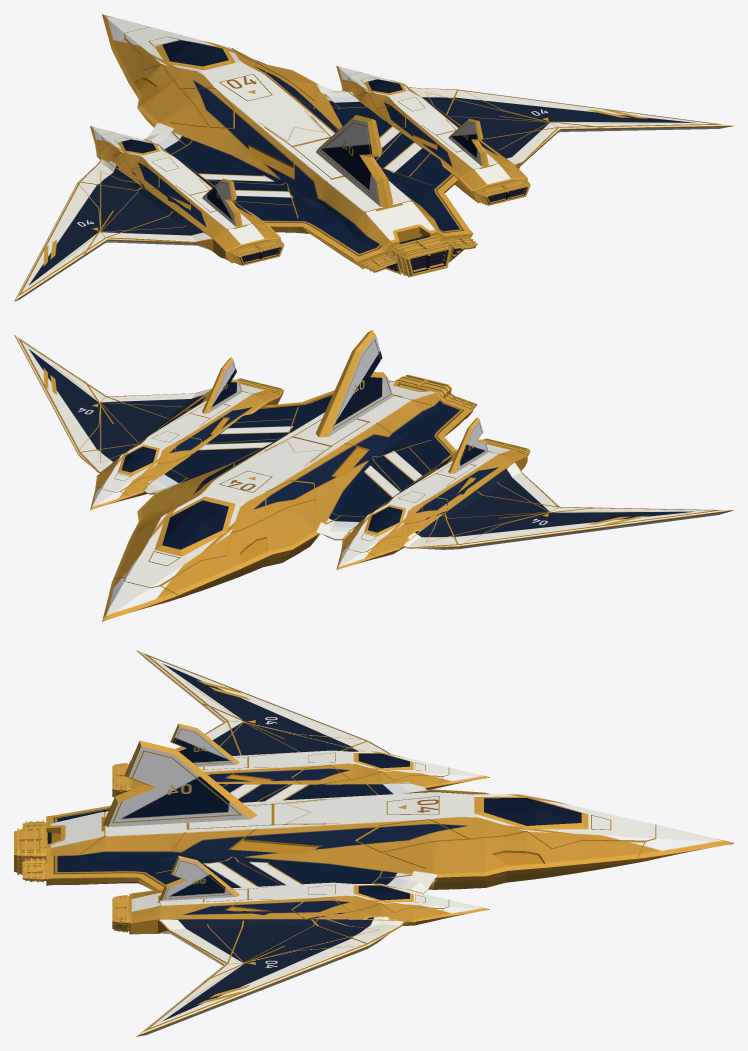
Rendered from royal-white.glb.
3 views of the same model, one above another, from view 1: azimuth 30°, elevation 25°; view 2: azimuth 150°, elevation 25°; view 3: azimuth 270°, elevation 25° (orthographic). The views are drawn at different scales.
Visible parts, largest first — view 1: CENTER_AF04_BODY_CENTER, SIDE_L_AF04_BODY_CENTER, SIDE_R_AF04_BODY_CENTER, STYLE_B_NOTCHED_FIN_center, CENTER_AF04_CANOPY_0, STYLE_B_NOTCHED_FIN_left, STYLE_B_NOTCHED_FIN_right, CENTER_AF04_CENTER_CANOPY_FRAME_USER; view 2: CENTER_AF04_BODY_CENTER, SIDE_L_AF04_BODY_CENTER, SIDE_R_AF04_BODY_CENTER, STYLE_B_NOTCHED_FIN_center, CENTER_AF04_CANOPY_0, STYLE_B_NOTCHED_FIN_right, STYLE_B_NOTCHED_FIN_left, CENTER_AF04_CENTER_CANOPY_FRAME_USER, SIDE_L_AF04_CANOPY_0, SIDE_R_AF04_CANOPY_0; view 3: CENTER_AF04_BODY_CENTER, SIDE_R_AF04_BODY_CENTER, SIDE_L_AF04_BODY_CENTER, STYLE_B_NOTCHED_FIN_center, STYLE_B_NOTCHED_FIN_right, CENTER_AF04_CANOPY_0, STYLE_B_NOTCHED_FIN_left, CENTER_AF04_CENTER_CANOPY_FRAME_USER.
Boxes of the visible parts, bbox=[...] form: CENTER_AF04_BODY_CENTER: bbox=[102, 14, 473, 269]; SIDE_L_AF04_BODY_CENTER: bbox=[14, 126, 280, 301]; SIDE_R_AF04_BODY_CENTER: bbox=[336, 66, 733, 203]; STYLE_B_NOTCHED_FIN_center: bbox=[316, 115, 393, 208]; CENTER_AF04_CANOPY_0: bbox=[162, 40, 228, 66]; STYLE_B_NOTCHED_FIN_left: bbox=[202, 178, 242, 227]; STYLE_B_NOTCHED_FIN_right: bbox=[448, 118, 488, 167]; CENTER_AF04_CENTER_CANOPY_FRAME_USER: bbox=[155, 40, 235, 70]; CENTER_AF04_BODY_CENTER: bbox=[102, 381, 472, 621]; SIDE_L_AF04_BODY_CENTER: bbox=[336, 444, 733, 570]; SIDE_R_AF04_BODY_CENTER: bbox=[14, 335, 280, 510]; STYLE_B_NOTCHED_FIN_center: bbox=[315, 330, 393, 437]; CENTER_AF04_CANOPY_0: bbox=[162, 500, 228, 549]; STYLE_B_NOTCHED_FIN_right: bbox=[202, 357, 242, 413]; STYLE_B_NOTCHED_FIN_left: bbox=[448, 417, 488, 473]; CENTER_AF04_CENTER_CANOPY_FRAME_USER: bbox=[154, 496, 235, 556]; SIDE_L_AF04_CANOPY_0: bbox=[368, 507, 402, 532]; SIDE_R_AF04_CANOPY_0: bbox=[121, 446, 156, 472]; CENTER_AF04_BODY_CENTER: bbox=[46, 782, 733, 893]; SIDE_R_AF04_BODY_CENTER: bbox=[129, 882, 489, 1036]; SIDE_L_AF04_BODY_CENTER: bbox=[129, 650, 489, 790]; STYLE_B_NOTCHED_FIN_center: bbox=[102, 740, 257, 827]; STYLE_B_NOTCHED_FIN_right: bbox=[159, 855, 239, 900]; CENTER_AF04_CANOPY_0: bbox=[484, 798, 581, 825]; STYLE_B_NOTCHED_FIN_left: bbox=[170, 723, 239, 766]; CENTER_AF04_CENTER_CANOPY_FRAME_USER: bbox=[474, 796, 588, 829].
Bounding box in the file's own units: 16.84 × 2.72 × 13.27.
Materials: 15 (5 with a texture image).
